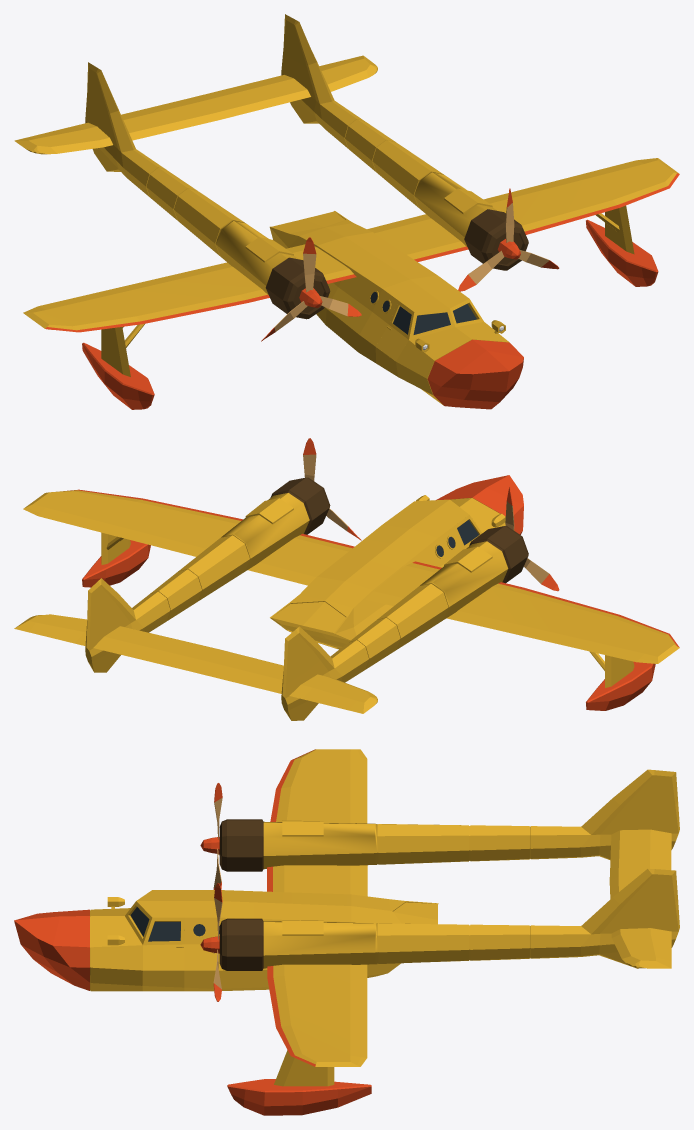
3 views of the same model, one above another, from view 1: azimuth 30°, elevation 25°; view 2: azimuth 150°, elevation 25°; view 3: azimuth 270°, elevation 25° (orthographic). The views are drawn at different scales.
Visible parts, largest first — view 1: Plane.005, propeller.005, propeller2.005; view 2: Plane.005, propeller.005, propeller2.005; view 3: Plane.005.
Part boxes in pixels (x1=…): Plane.005: x1=14, y1=14, x2=679, y2=409; propeller.005: x1=261, y1=237, x2=361, y2=341; propeller2.005: x1=458, y1=188, x2=559, y2=291; Plane.005: x1=14, y1=475, x2=679, y2=720; propeller.005: x1=505, y1=486, x2=559, y2=591; propeller2.005: x1=303, y1=438, x2=361, y2=540; Plane.005: x1=14, y1=749, x2=679, y2=1115.
Size of the model in its own units: 347 by 86.62 by 307.
